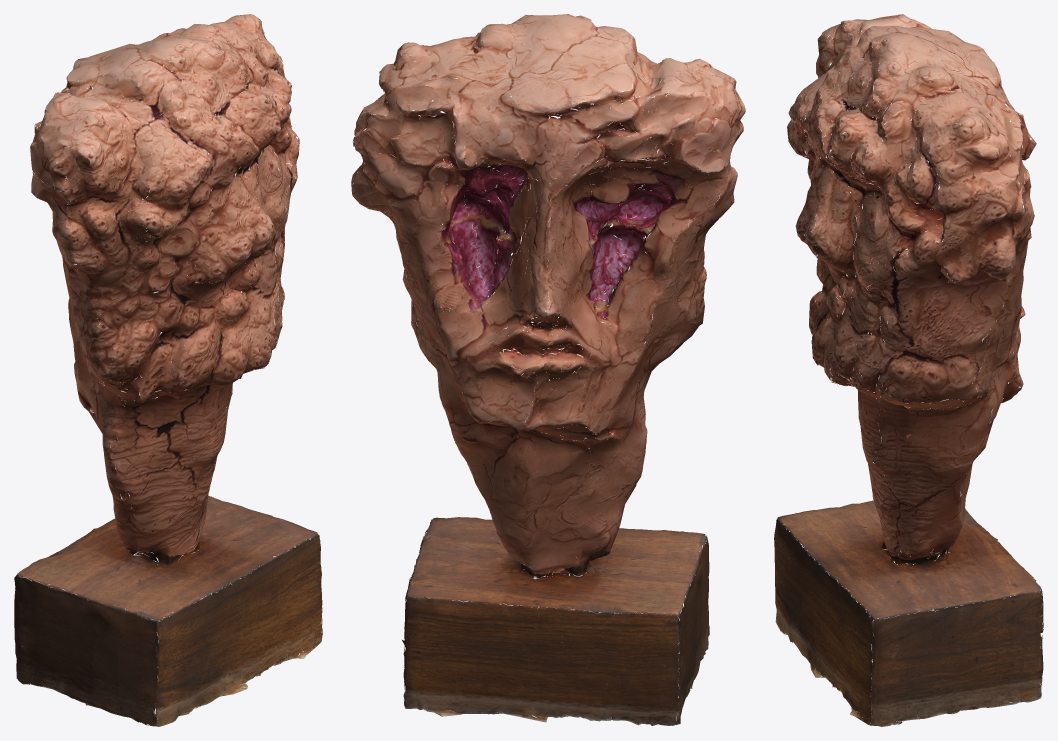
The model's file is dubuffet.glb.
3 renders of one model, left to right at view 1: azimuth 30°, elevation 25°; view 2: azimuth 150°, elevation 25°; view 3: azimuth 270°, elevation 25°, orthographic. The views are drawn at different scales.
Parts seen in each view (by area): view 1: Mesh_0_Part_0; view 2: Mesh_0_Part_0; view 3: Mesh_0_Part_0.
Part boxes in pixels (x1,y1,x2,y2): Mesh_0_Part_0: [14, 14, 322, 726]; Mesh_0_Part_0: [351, 14, 745, 725]; Mesh_0_Part_0: [774, 14, 1043, 726].
Size of the model in its own units: 1.69 by 3.42 by 1.34.
1 material, 1 textured.
